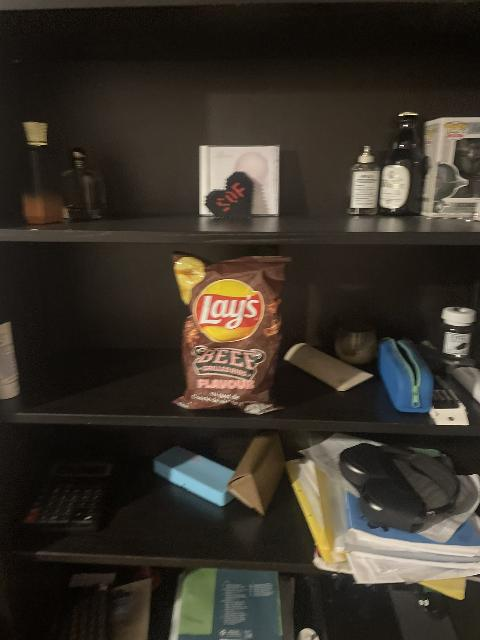Lays Beef Grilled Ribs 125g: (166, 257, 296, 412)
